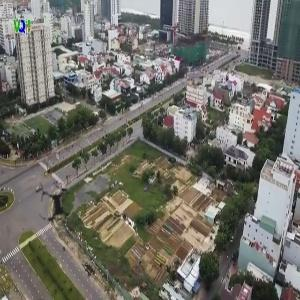drone: (18, 168, 91, 241)
